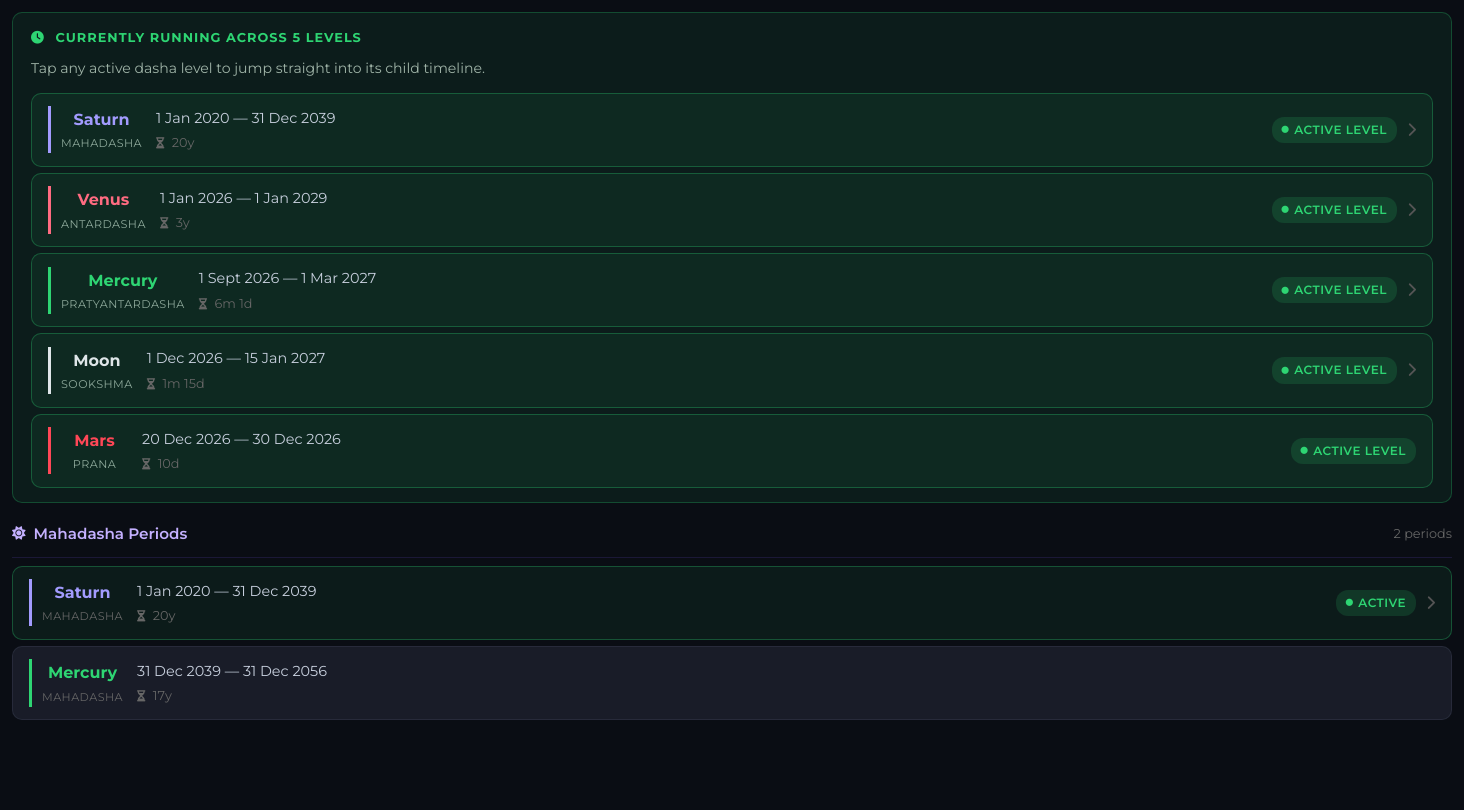
Test case: DashaDrillDown › shows the active dasha path at 5 levels and jumps to deeper timelines from the active path cards
Expected: the element with test id "dasha-current-path" is shown, [12, 12, 1452, 503]
Expected: the text "Active Level" is shown 5 times, [1272, 117, 1397, 143]; [1272, 197, 1397, 223]; [1272, 277, 1397, 304]; [1272, 357, 1397, 384]; [1291, 438, 1416, 464]
Click the element with test id "dasha-path-item-1" at (732, 210), box [31, 173, 1433, 247]
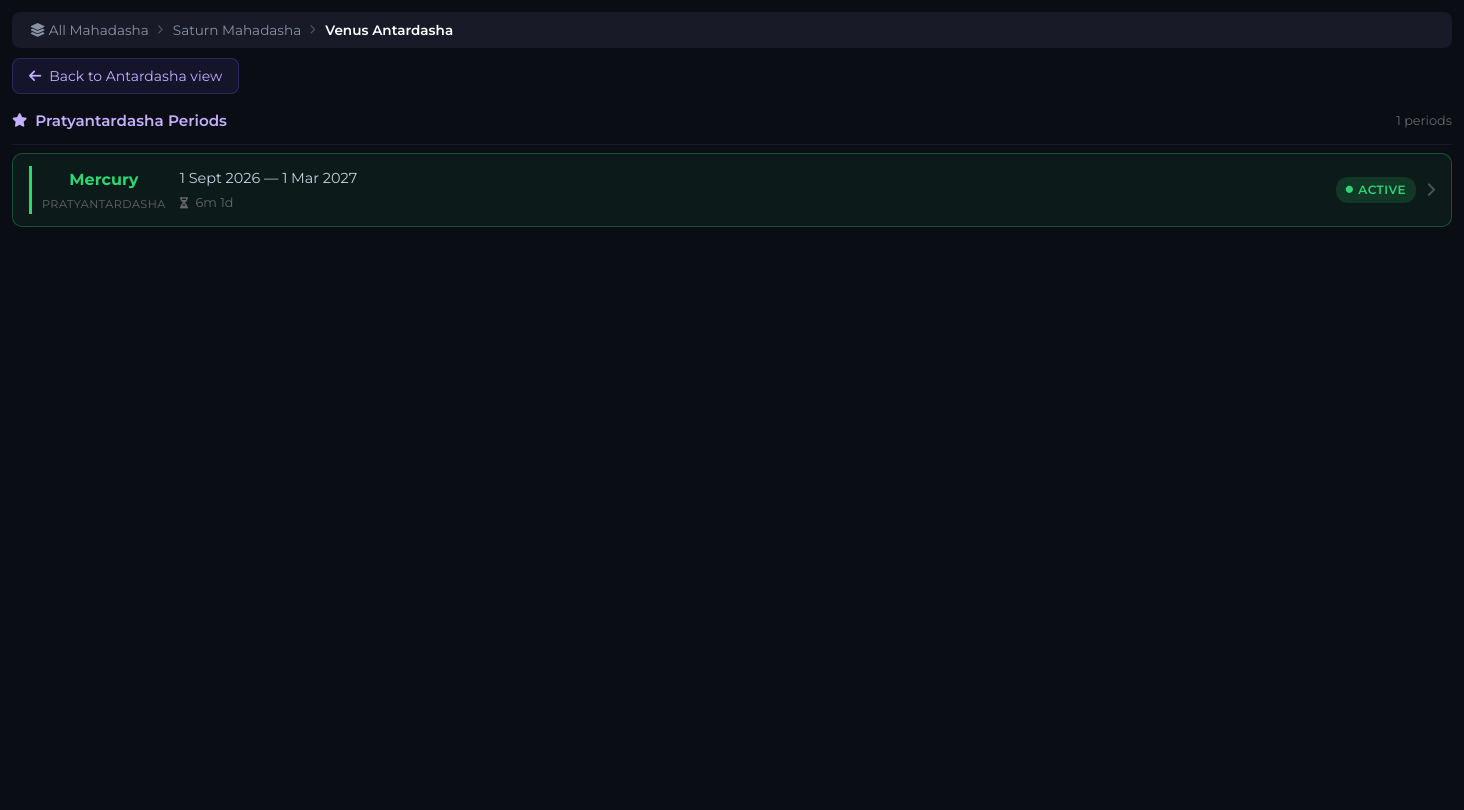
Expected: the button "Saturn Mahadasha" is shown, [167, 20, 307, 40]
Now the text "Pratyantardasha Periods" is shown, box [35, 108, 227, 134]
Now the button "Back to Antardasha view" is shown, box [12, 58, 239, 94]
